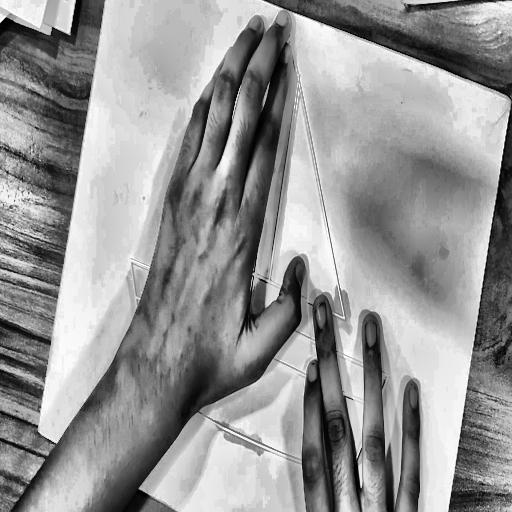boat: (94, 0, 450, 512)
bottom_left: (35, 421, 44, 438)
top_right: (509, 98, 512, 104)
